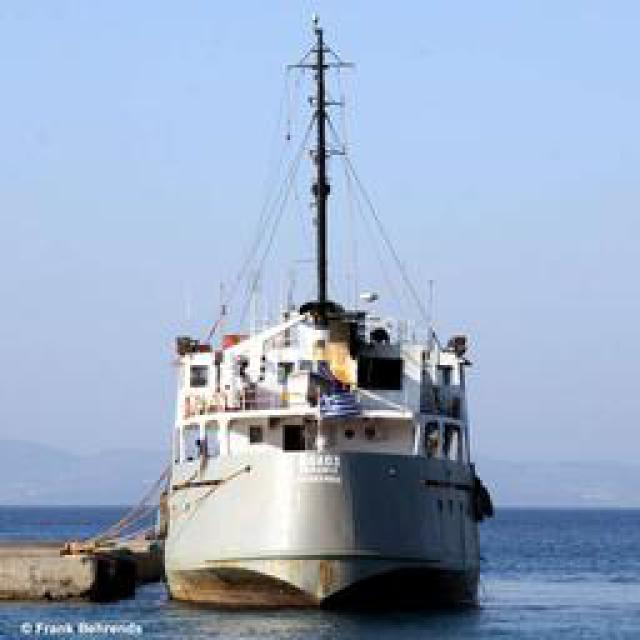Ship: (149, 7, 494, 605)
